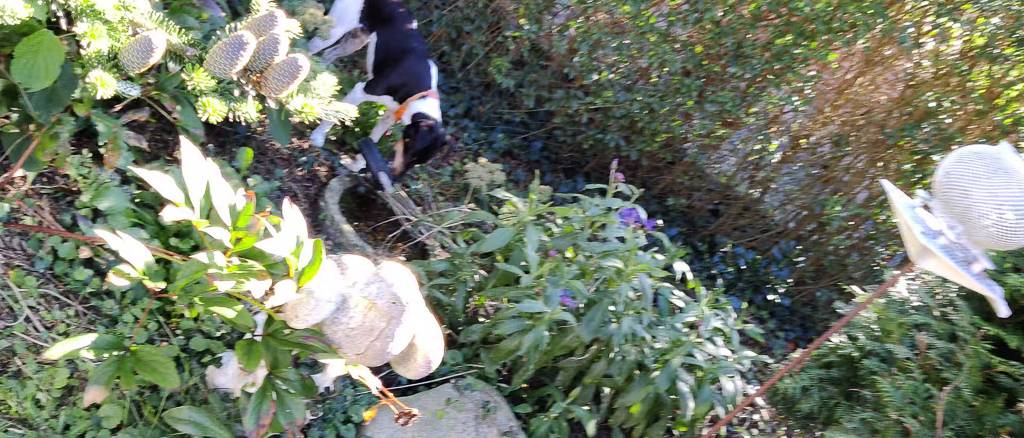Dog: (278, 0, 471, 201)
Eagle: (230, 240, 453, 412)
